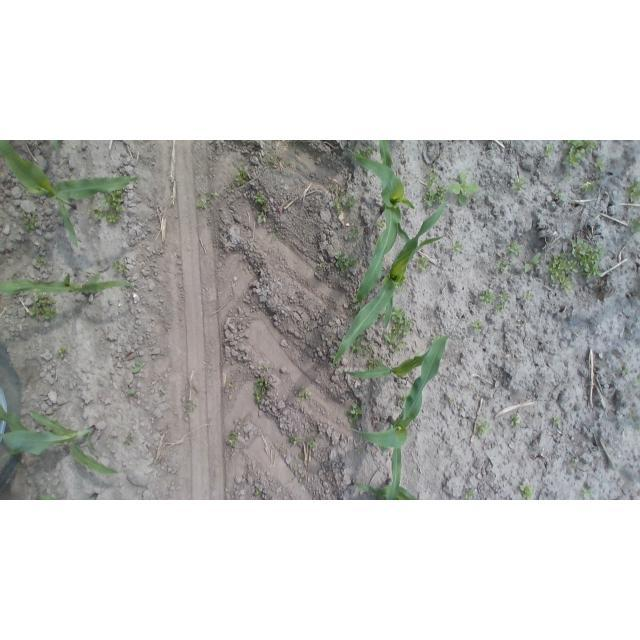Maize: (335, 197, 445, 367), (349, 337, 447, 498), (2, 141, 142, 248), (343, 140, 417, 302), (0, 406, 120, 478), (1, 269, 135, 299)
Weeds: (569, 239, 606, 281), (90, 188, 125, 226), (549, 250, 579, 294), (388, 306, 413, 351), (449, 171, 479, 205), (421, 172, 447, 206), (563, 141, 597, 167), (30, 292, 57, 320), (334, 251, 356, 274), (254, 375, 270, 405), (345, 402, 364, 425), (336, 194, 357, 213), (523, 252, 541, 273), (233, 167, 249, 186), (626, 181, 638, 204), (519, 483, 535, 500), (479, 288, 496, 304), (475, 420, 490, 437), (581, 179, 599, 193), (415, 256, 430, 272), (511, 178, 526, 193), (227, 428, 240, 445), (24, 214, 37, 231), (253, 191, 268, 205), (509, 241, 522, 256), (297, 386, 312, 399), (496, 261, 510, 274), (472, 318, 485, 332), (594, 157, 607, 171), (358, 146, 376, 156), (510, 414, 523, 427), (369, 358, 384, 369), (113, 261, 127, 272), (197, 199, 211, 210), (542, 145, 555, 156), (309, 436, 320, 449), (132, 359, 142, 373), (288, 435, 301, 445), (57, 347, 67, 360), (582, 489, 593, 500), (35, 256, 46, 267), (499, 291, 509, 303), (349, 228, 359, 240), (397, 394, 407, 406), (630, 219, 638, 234), (464, 487, 474, 499), (186, 401, 196, 413), (451, 240, 461, 252), (363, 346, 373, 357), (265, 156, 277, 165), (552, 416, 561, 428), (352, 297, 360, 310), (352, 343, 361, 354), (620, 363, 628, 375), (376, 219, 385, 229), (257, 213, 265, 224), (298, 475, 307, 484), (494, 304, 503, 313), (554, 192, 564, 200), (525, 292, 535, 300), (158, 389, 166, 398), (127, 389, 136, 397), (210, 191, 219, 199), (225, 381, 233, 389), (254, 490, 262, 498), (52, 417, 60, 424), (261, 365, 270, 371), (315, 263, 323, 269), (448, 397, 454, 404)
